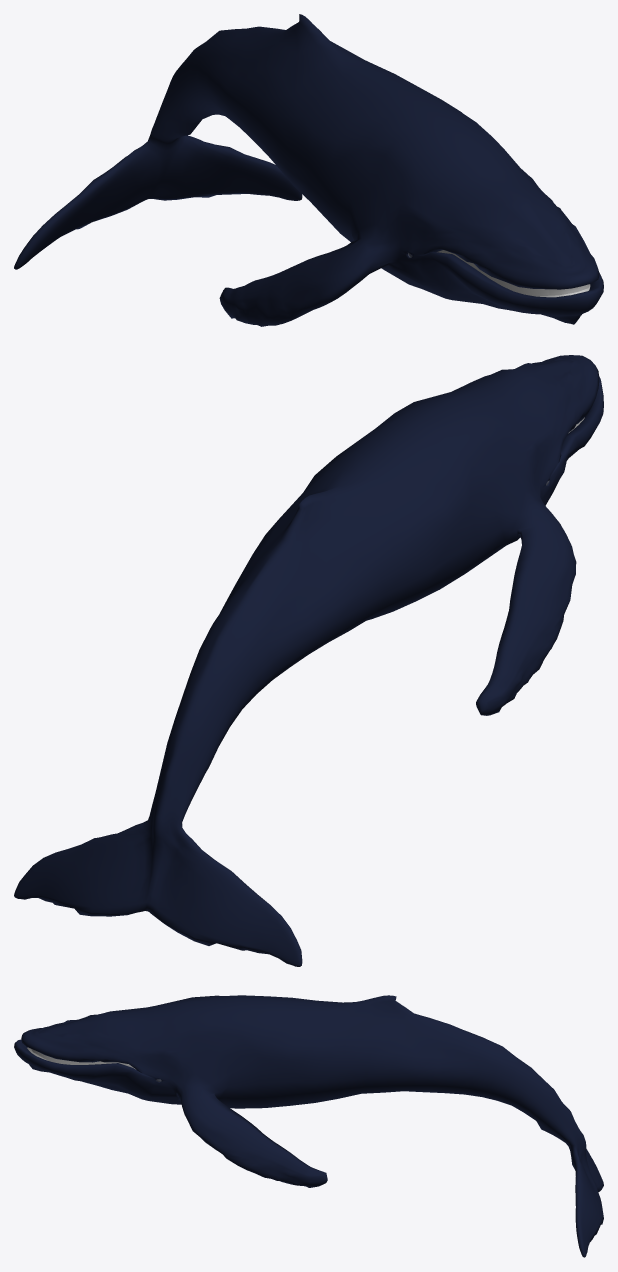
File: whale_animation06.obj
3 renders of one model, top to bottom at view 1: azimuth 30°, elevation 25°; view 2: azimuth 150°, elevation 25°; view 3: azimuth 270°, elevation 25°, orthographic. The views are drawn at different scales.
Parts seen in each view (by area): view 1: Whale, Barbs; view 2: Whale; view 3: Whale, Barbs.
Part boxes in pixels (box(x1,y1,x2,y2)): Whale: box(14, 14, 603, 326); Barbs: box(437, 250, 590, 297); Whale: box(14, 355, 603, 966); Whale: box(14, 995, 603, 1257); Barbs: box(27, 1047, 135, 1069).
Size of the model in its own units: 6.24 by 6.76 by 16.71.
